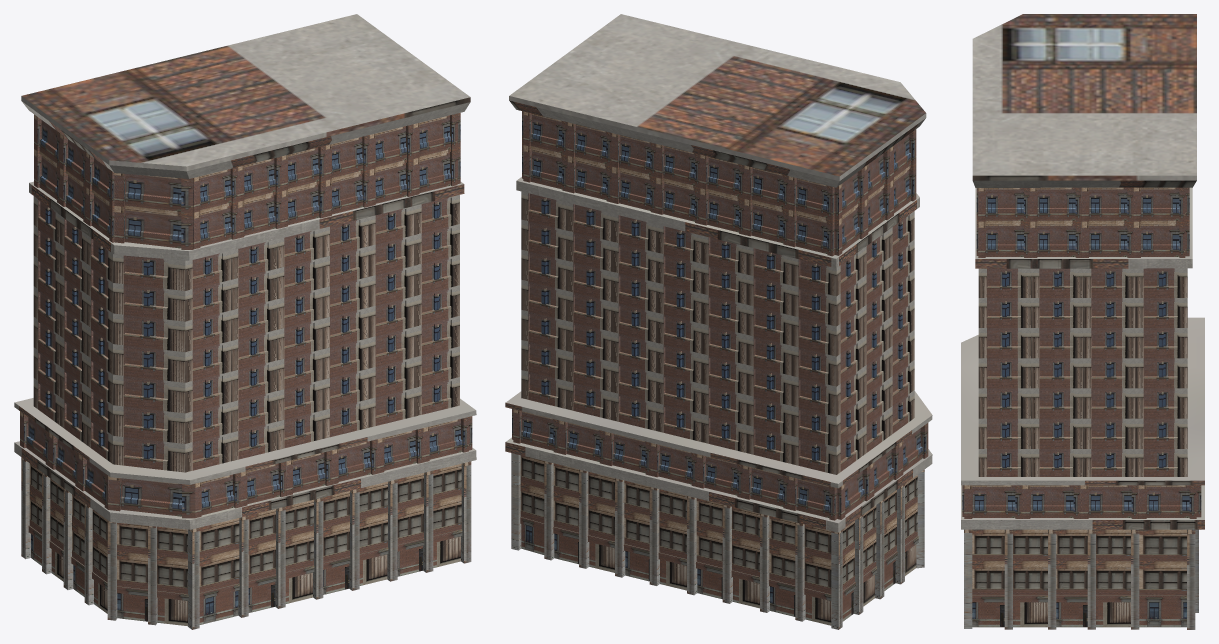
The model's file is building4midpoly.fbx.
3 renders of one model, left to right at view 1: azimuth 30°, elevation 25°; view 2: azimuth 150°, elevation 25°; view 3: azimuth 270°, elevation 25°, orthographic.
Visible parts, largest first — view 1: Plane.093; view 2: Plane.093; view 3: Plane.093.
Boxes of the visible parts, bbox=[...] form: Plane.093: bbox=[14, 14, 476, 629]; Plane.093: bbox=[505, 14, 932, 629]; Plane.093: bbox=[961, 14, 1204, 629].
Bounding box in the file's own units: 25.44 × 33.07 × 16.08.
1 material, 1 textured.
